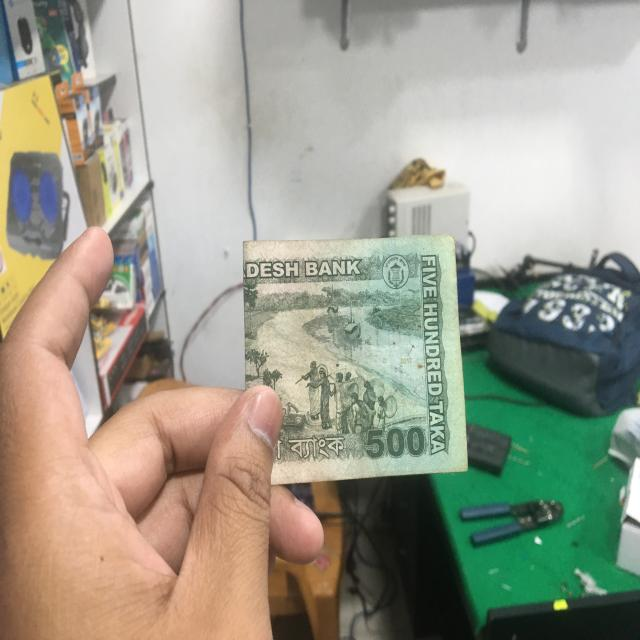Taka: (240, 242, 470, 473)
